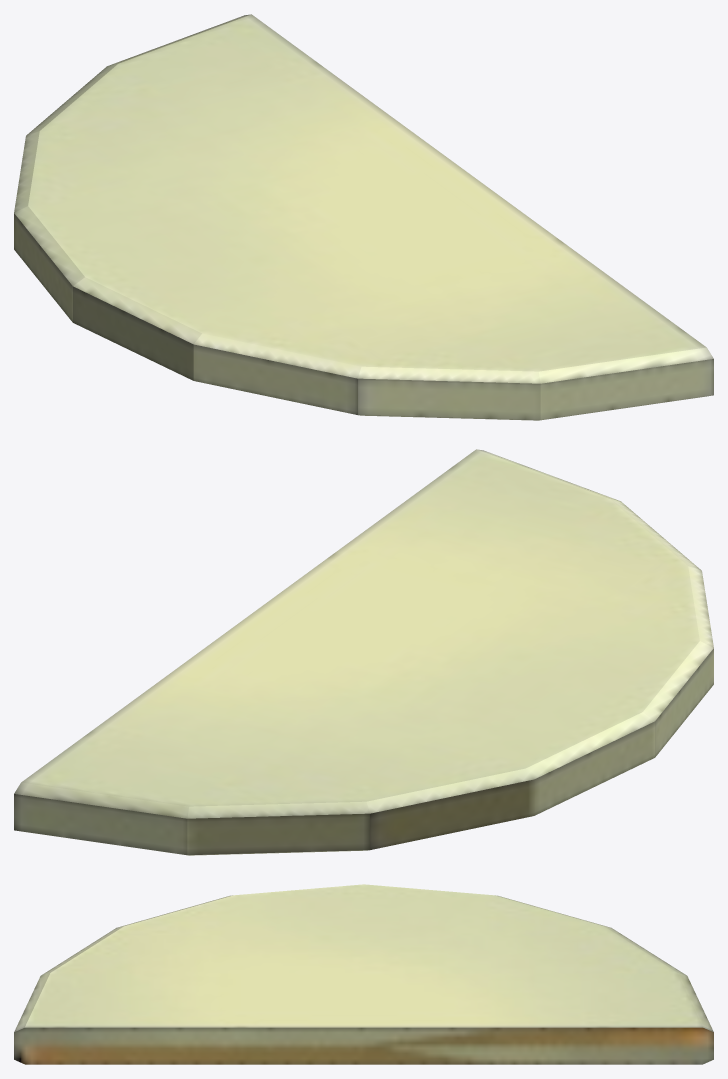
File: missile_door_a.obj
The picture shows the model from 3 angles, top to bottom: view 1: azimuth 30°, elevation 25°; view 2: azimuth 150°, elevation 25°; view 3: azimuth 270°, elevation 25°; orthographic projection. The views are drawn at different scales.
Parts seen in each view (by area): view 1: Object001; view 2: Object001; view 3: Object001.
Part boxes in pixels (<box>): Object001: <box>14,14,713,420</box>; Object001: <box>14,449,713,855</box>; Object001: <box>14,884,713,1064</box>.
Bounding box in the file's own units: 12.92 × 1.5 × 25.84.
Materials: 1 (1 with a texture image).
